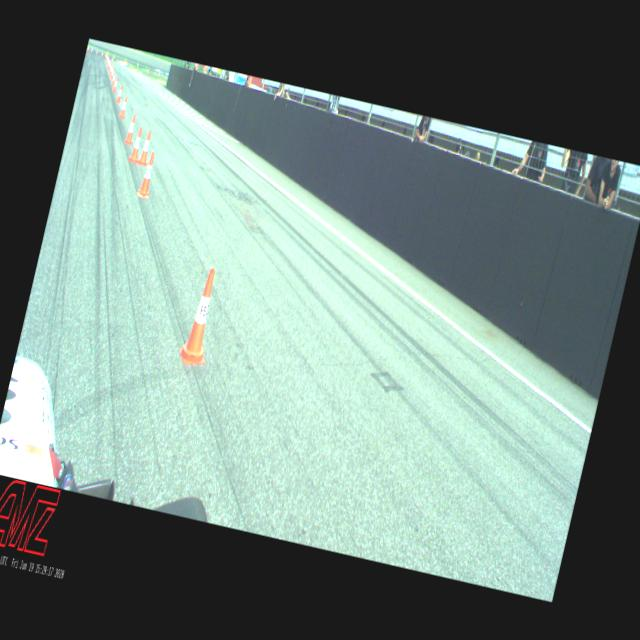orange_cone: (176, 265, 225, 368), (136, 150, 158, 198), (137, 130, 154, 167), (128, 126, 144, 163), (124, 114, 138, 144), (118, 95, 129, 118), (115, 84, 124, 103), (112, 77, 119, 92), (110, 72, 116, 84), (109, 68, 114, 79), (109, 66, 113, 76), (109, 64, 112, 72)
